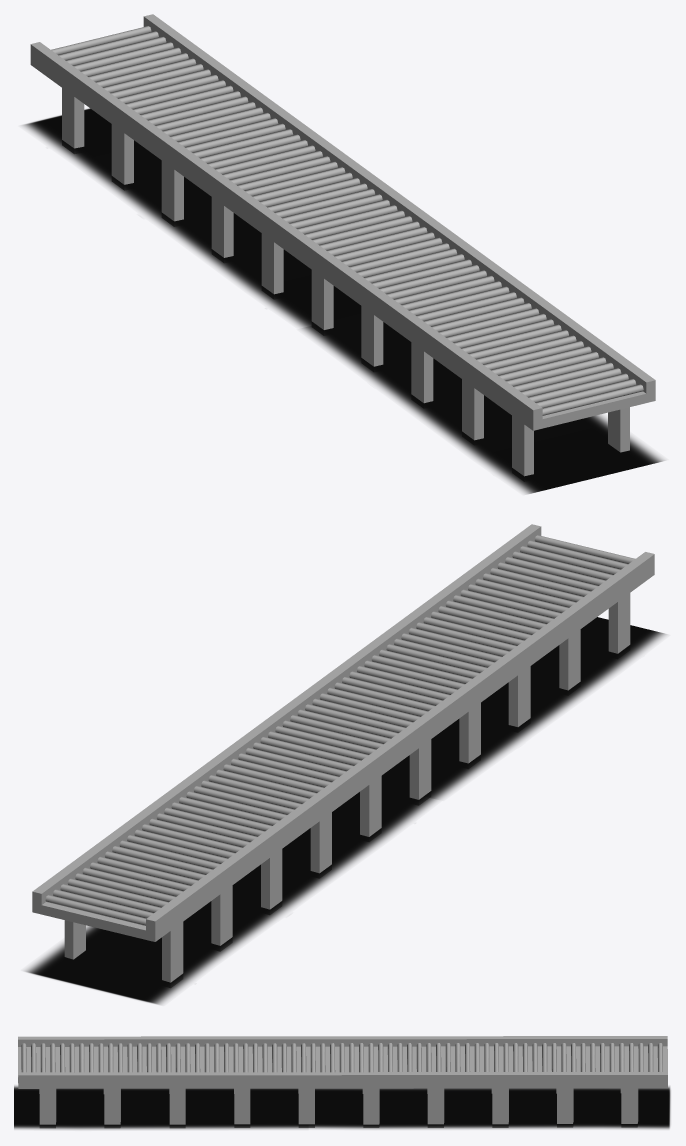
Rendered from rail_in_out.glb.
3 renders of one model, top to bottom at view 1: azimuth 30°, elevation 25°; view 2: azimuth 150°, elevation 25°; view 3: azimuth 270°, elevation 25°, orthographic. The views are drawn at different scales.
Visible parts, largest first — view 1: in_rail.002, rail_shadow; view 2: in_rail.002, rail_shadow; view 3: in_rail.002, rail_shadow.
Boxes of the visible parts, left/top/right/bottom form: in_rail.002: left=30, top=14, right=655, bottom=476; rail_shadow: left=23, top=108, right=664, bottom=493; in_rail.002: left=32, top=524, right=654, bottom=987; rail_shadow: left=25, top=617, right=665, bottom=1004; in_rail.002: left=18, top=1036, right=667, bottom=1128; rail_shadow: left=14, top=1086, right=670, bottom=1129.
Bounding box in the file's own units: 2.04 × 1.11 × 11.86.
2 materials, 1 textured.
